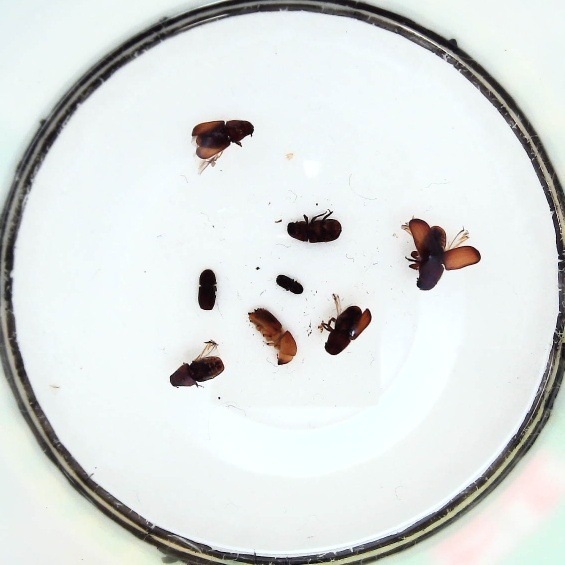boerner: (247, 306, 300, 365)
coleoptera: (273, 272, 304, 296)
leconte: (407, 215, 481, 293), (321, 301, 374, 355), (190, 117, 253, 159), (167, 351, 225, 388), (286, 211, 344, 245)
linnaeus: (194, 266, 221, 312)
